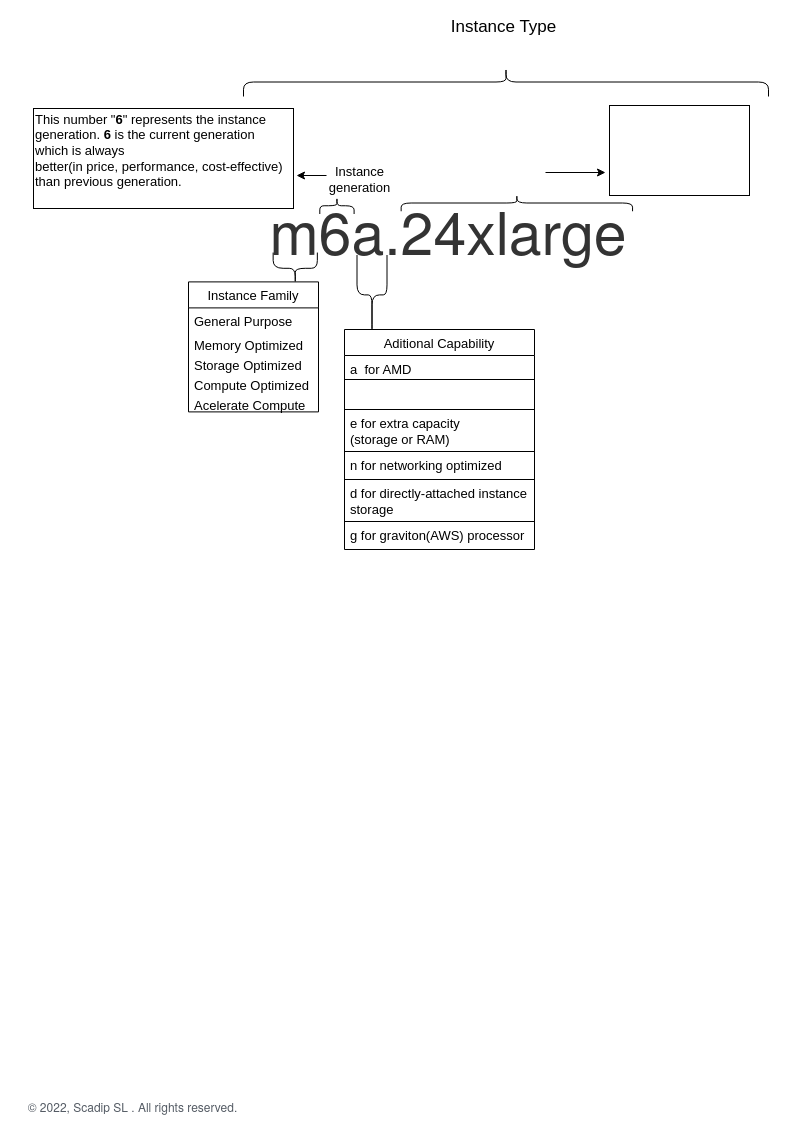
Image size: 786x1134. Some labels were removed from this diagram. Each missing label, with the centre of its shape:
Amount of: CPU Storage Memory Network performance: (x=679, y=150)
b for Block Storage optimize: (x=439, y=394)
Instance size: (x=516, y=202)
